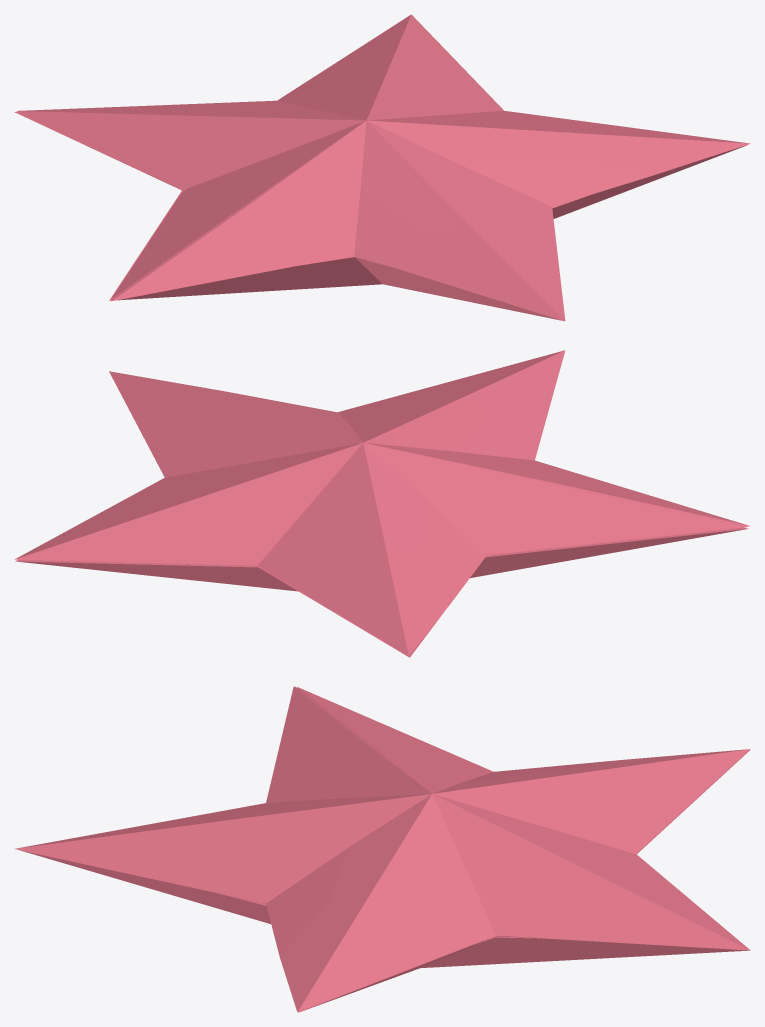
Rendered from star.fbx.
The picture shows the model from 3 angles, top to bottom: view 1: azimuth 30°, elevation 25°; view 2: azimuth 150°, elevation 25°; view 3: azimuth 270°, elevation 25°; orthographic projection. The views are drawn at different scales.
Visible parts, largest first — view 1: Circle; view 2: Circle; view 3: Circle.
Part boxes in pixels (x1=…): Circle: x1=14, y1=14, x2=750, y2=321; Circle: x1=14, y1=350, x2=750, y2=657; Circle: x1=15, y1=686, x2=750, y2=1012.
Size of the model in its own units: 191 by 46.05 by 182.
